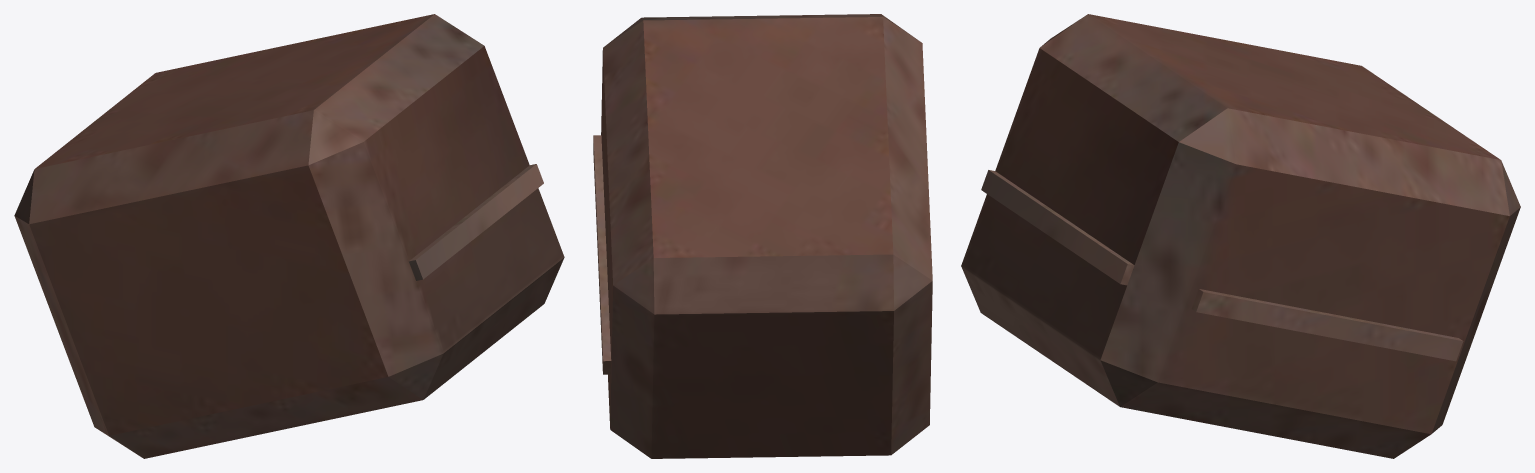
Rendered from fulgoran-ruin-tiny.glb.
The picture shows the model from 3 angles, left to right: view 1: azimuth 30°, elevation 25°; view 2: azimuth 150°, elevation 25°; view 3: azimuth 270°, elevation 25°; orthographic projection. The views are drawn at different scales.
Parts seen in each view (by area): view 1: body; view 2: body; view 3: body.
Boxes of the visible parts, box(x1,y1,x2,y2) form: body: box(14, 14, 564, 458); body: box(593, 14, 932, 458); body: box(961, 14, 1520, 458).
Bounding box in the file's own units: 0.5902 × 0.4969 × 0.6388.
1 material, 1 textured.
